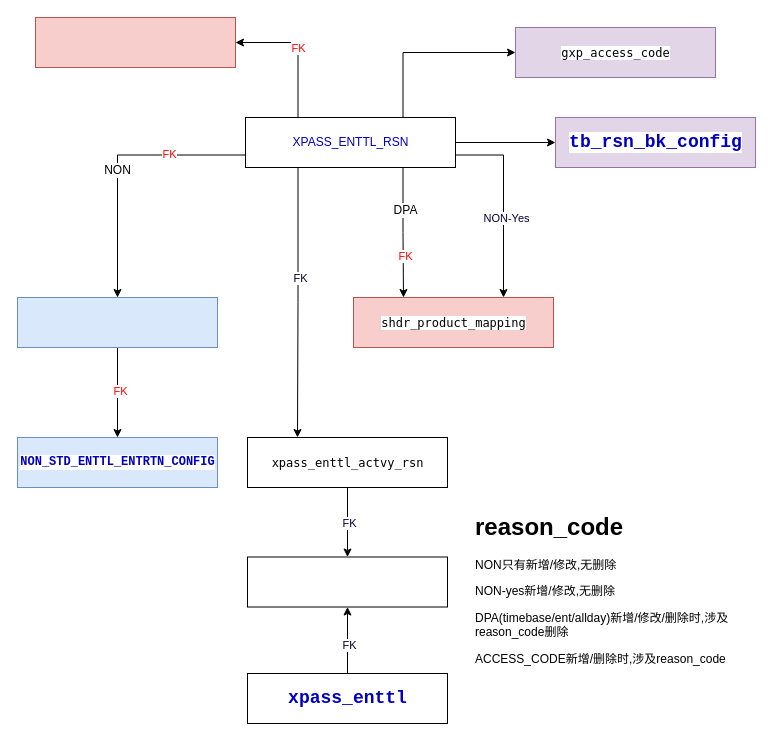
This 778x745 diagram has some shape labels left out. The shapes that lost their labels are listed below. From the top down, each one's box as (x1, y1, x2, y2) in pixels, then its label:
(34, 16, 236, 68): dpa_settings
(16, 296, 218, 348): non_std_non_inv_enttl_cnfig
(246, 556, 448, 607): xpass_enttl_actvy
